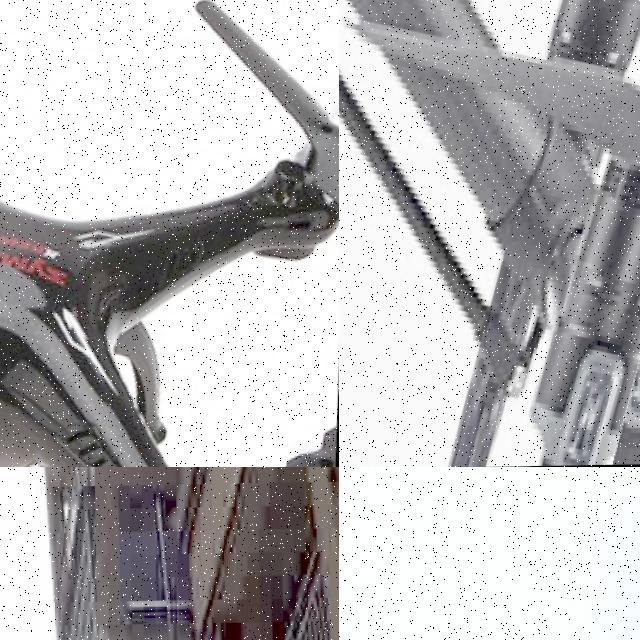drone: (0, 0, 339, 467), (339, 0, 640, 467)
